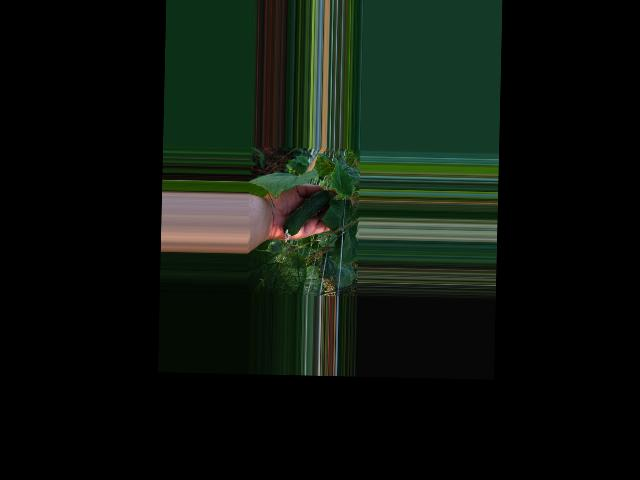cucumber: (282, 189, 330, 244)
